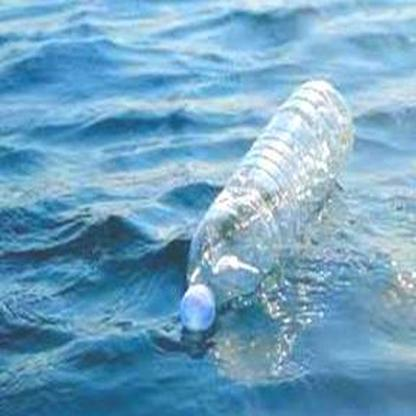plastic bottle: (177, 79, 356, 332)
